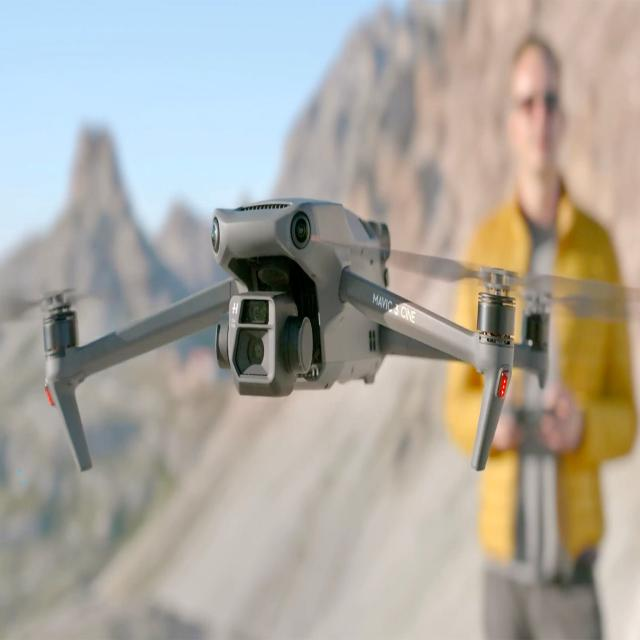drone: (20, 136, 628, 542)
